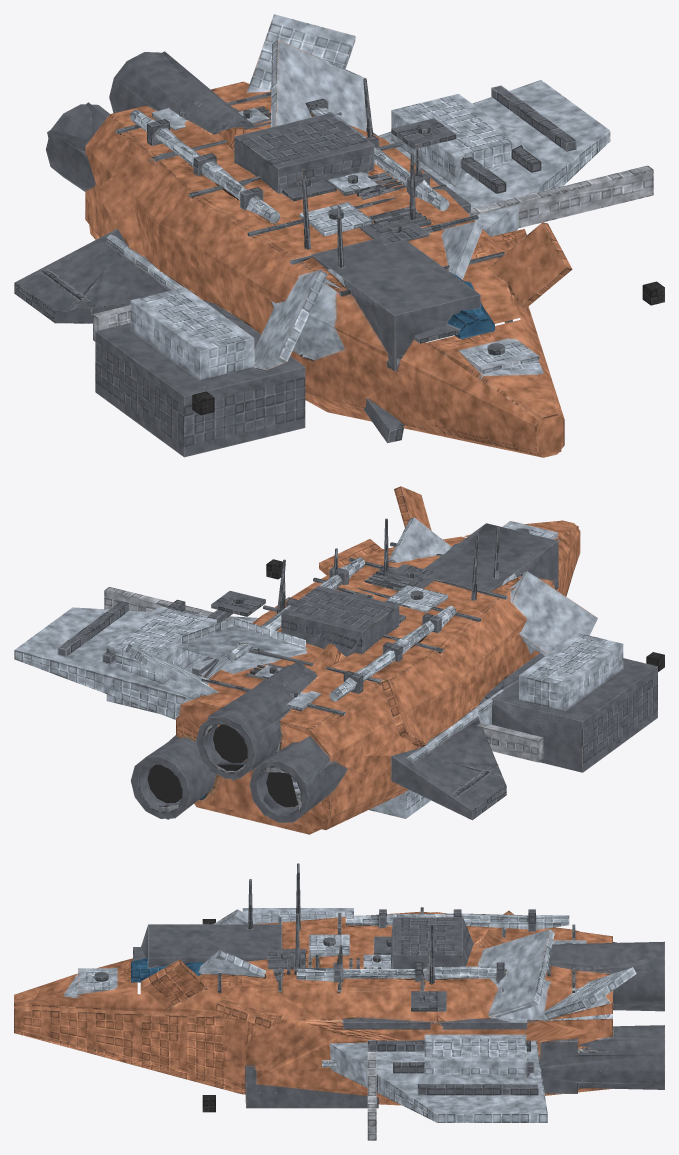
The model's file is sd_npc_reaver.glb.
3 views of the same model, one above another, from view 1: azimuth 30°, elevation 25°; view 2: azimuth 150°, elevation 25°; view 3: azimuth 270°, elevation 25° (orthographic). The views are drawn at different scales.
Parts seen in each view (by area): view 1: LOD0_body, LOD1_body; view 2: LOD0_body, LOD1_body; view 3: LOD0_body, LOD1_body.
Boxes of the visible parts, bbox=[...] form: LOD0_body: bbox=[14, 14, 664, 457]; LOD1_body: bbox=[14, 51, 561, 456]; LOD0_body: bbox=[14, 486, 664, 834]; LOD1_body: bbox=[23, 521, 657, 829]; LOD0_body: bbox=[14, 863, 664, 1140]; LOD1_body: bbox=[14, 908, 664, 1118].
Bounding box in the file's own units: 0.7963 × 0.3329 × 1.
1 material, 1 textured.
